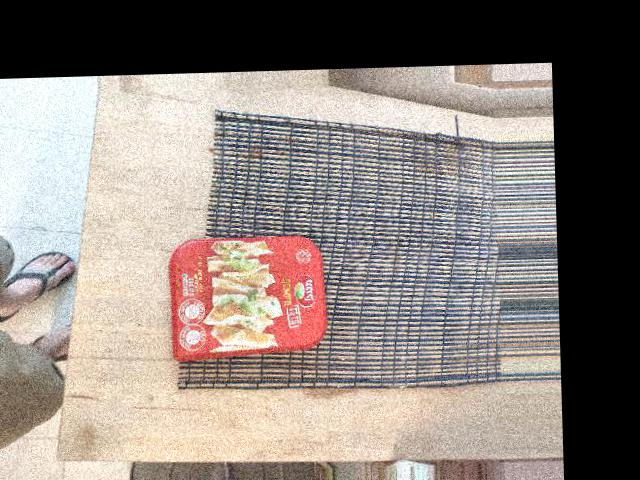cheese: (217, 98, 347, 291)
